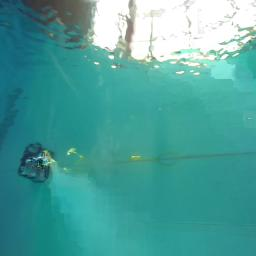Full: (18, 157, 50, 183)
